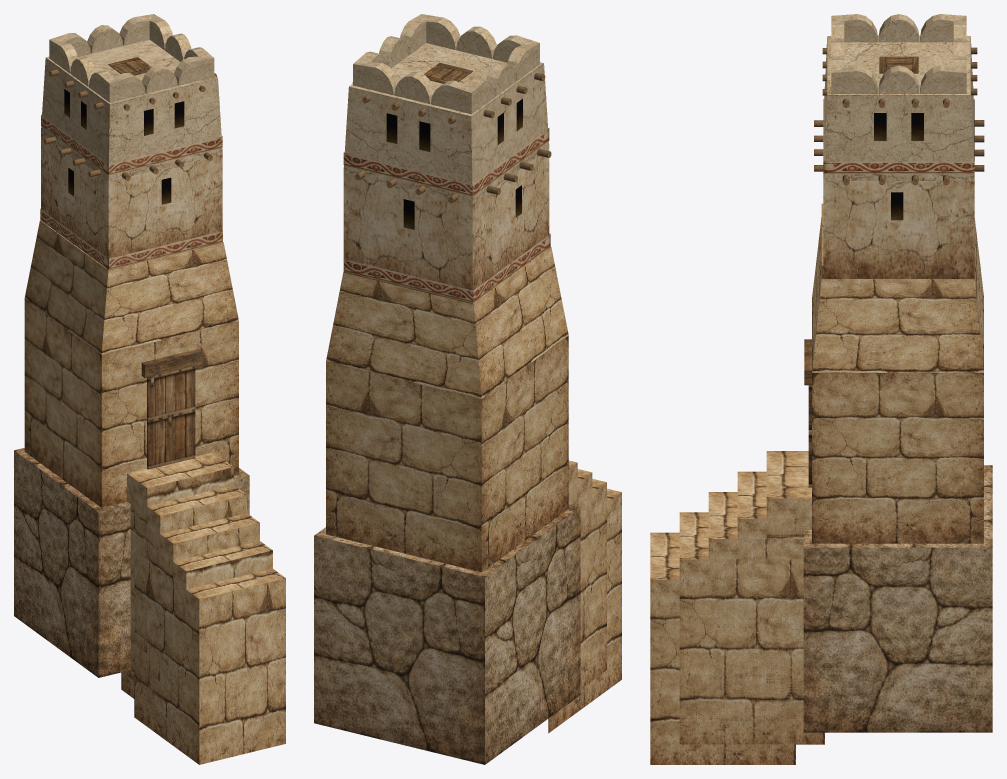
File: defense_tower.dae
The picture shows the model from 3 angles, left to right: view 1: azimuth 30°, elevation 25°; view 2: azimuth 150°, elevation 25°; view 3: azimuth 270°, elevation 25°; orthographic projection. The views are drawn at different scales.
Parts seen in each view (by area): view 1: defense_tower; view 2: defense_tower; view 3: defense_tower.
Part boxes in pixels (x1,y1,x2,y2): defense_tower: (14, 14, 285, 764); defense_tower: (314, 14, 621, 764); defense_tower: (650, 14, 992, 764).
Size of the model in its own units: 7.31 by 12.84 by 28.95.
1 material, 1 textured.
